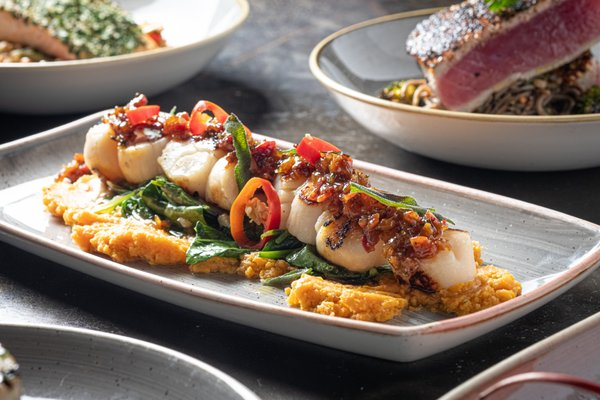soup: (404, 0, 600, 117)
sushi: (309, 2, 600, 172), (0, 0, 252, 117)
